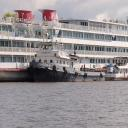tugboat: (27, 34, 107, 85)
